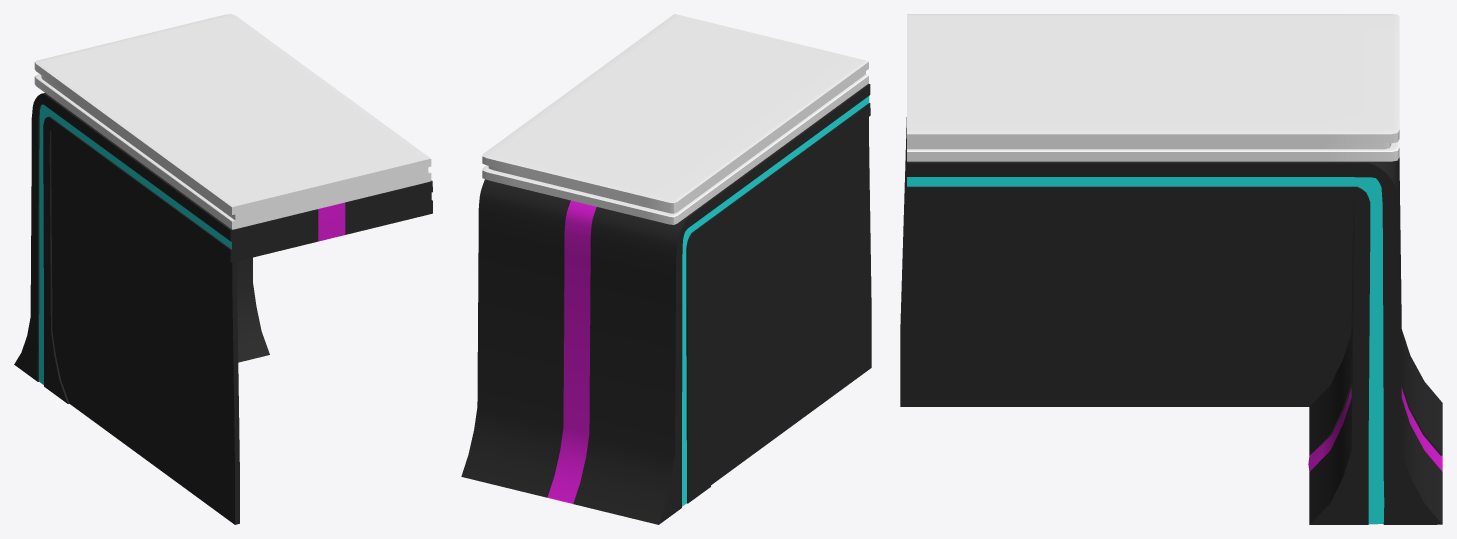
File: low poly bench 5.fbx
3 renders of one model, left to right at view 1: azimuth 30°, elevation 25°; view 2: azimuth 150°, elevation 25°; view 3: azimuth 270°, elevation 25°, orthographic. The views are drawn at different scales.
Parts seen in each view (by area): view 1: Box038; view 2: Box038; view 3: Box038.
Boxes of the visible parts, x1,y1,x2,y2 form: Box038: [14, 14, 432, 524]; Box038: [461, 14, 871, 524]; Box038: [900, 14, 1442, 524].
Bounding box in the file's own units: 19.63 × 29.35 × 36.92.
